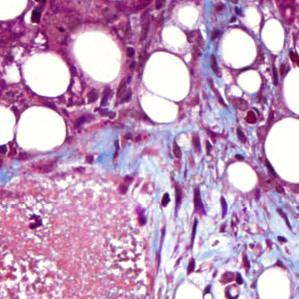steatosis: (15, 104, 72, 153), (144, 50, 193, 101), (25, 54, 75, 95), (224, 159, 260, 197)
